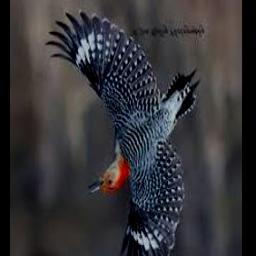Woodpecker: (45, 10, 201, 256)
